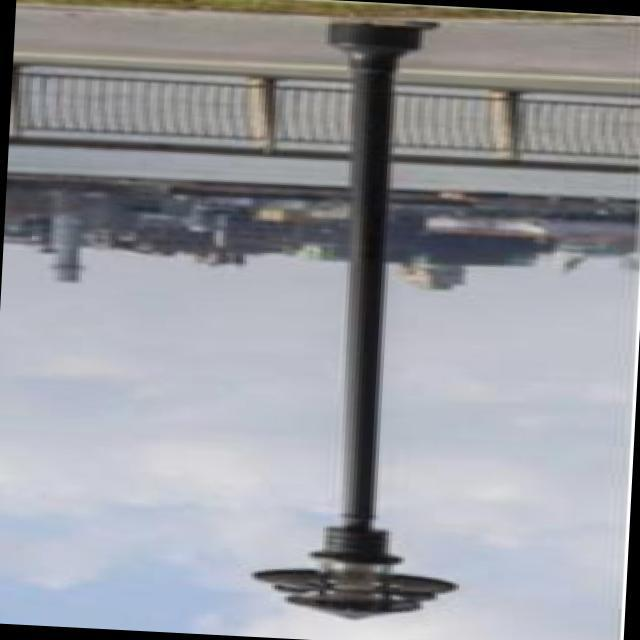off: (250, 523, 484, 622)
